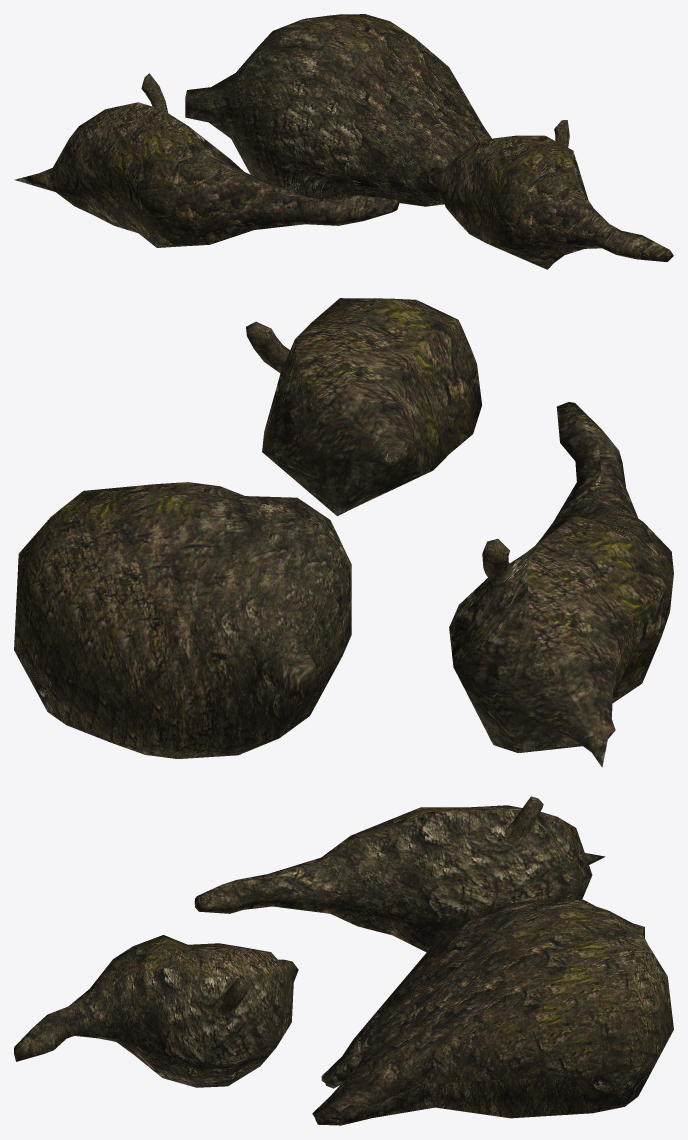
File: caowu.FBX
The picture shows the model from 3 angles, top to bottom: view 1: azimuth 30°, elevation 25°; view 2: azimuth 150°, elevation 25°; view 3: azimuth 270°, elevation 25°; orthographic projection. The views are drawn at different scales.
Parts seen in each view (by area): view 1: Sphere001, Cylinder001, Cylinder002; view 2: Sphere001, Cylinder001, Cylinder002; view 3: Sphere001, Cylinder001, Cylinder002.
Boxes of the visible parts, x1,y1,x2,y2 form: Sphere001: (185,14,491,206); Cylinder001: (14,73,399,247); Cylinder002: (429,120,673,269); Sphere001: (14,482,351,758); Cylinder001: (449,402,673,767); Cylinder002: (246,298,481,516); Sphere001: (312,899,673,1125); Cylinder001: (194,796,605,952); Cylinder002: (14,935,298,1087).
Bounding box in the file's own units: 50.78 × 20.97 × 63.55.
